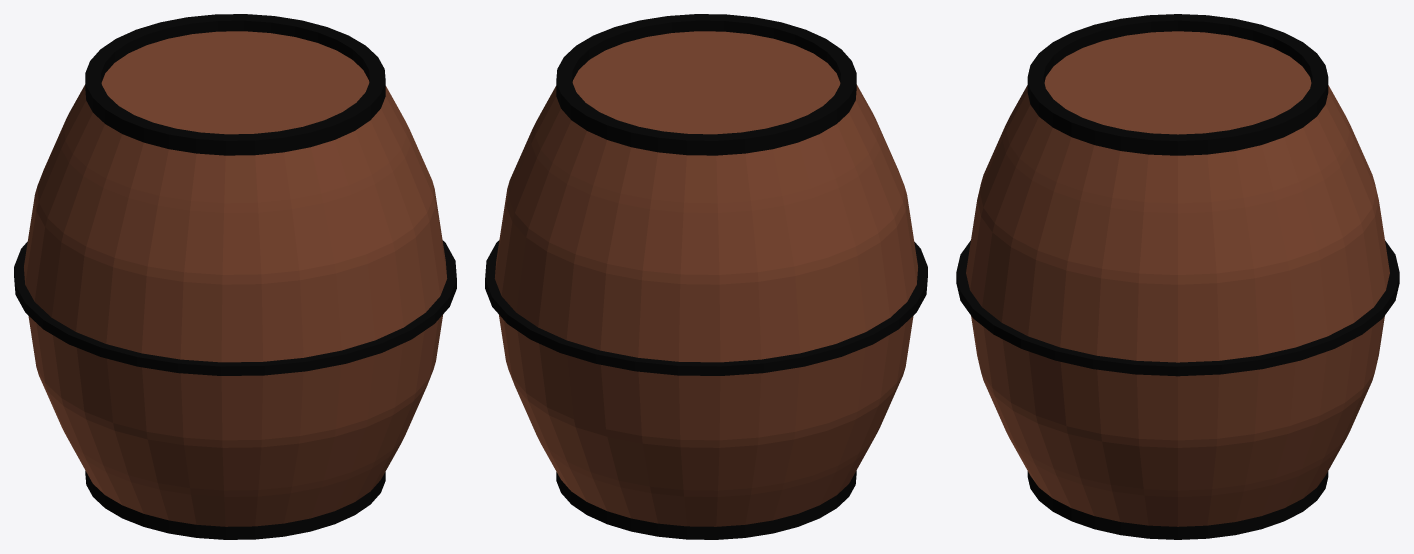
The model's file is barrel.fbx.
3 renders of one model, left to right at view 1: azimuth 30°, elevation 25°; view 2: azimuth 150°, elevation 25°; view 3: azimuth 270°, elevation 25°, orthographic.
Visible parts, largest first — view 1: 樽; view 2: 樽; view 3: 樽.
Boxes of the visible parts, x1,y1,x2,y2 form: 樽: [14, 14, 456, 539]; 樽: [485, 14, 927, 539]; 樽: [956, 14, 1399, 539].
Size of the model in its own units: 306 by 303 by 306.
